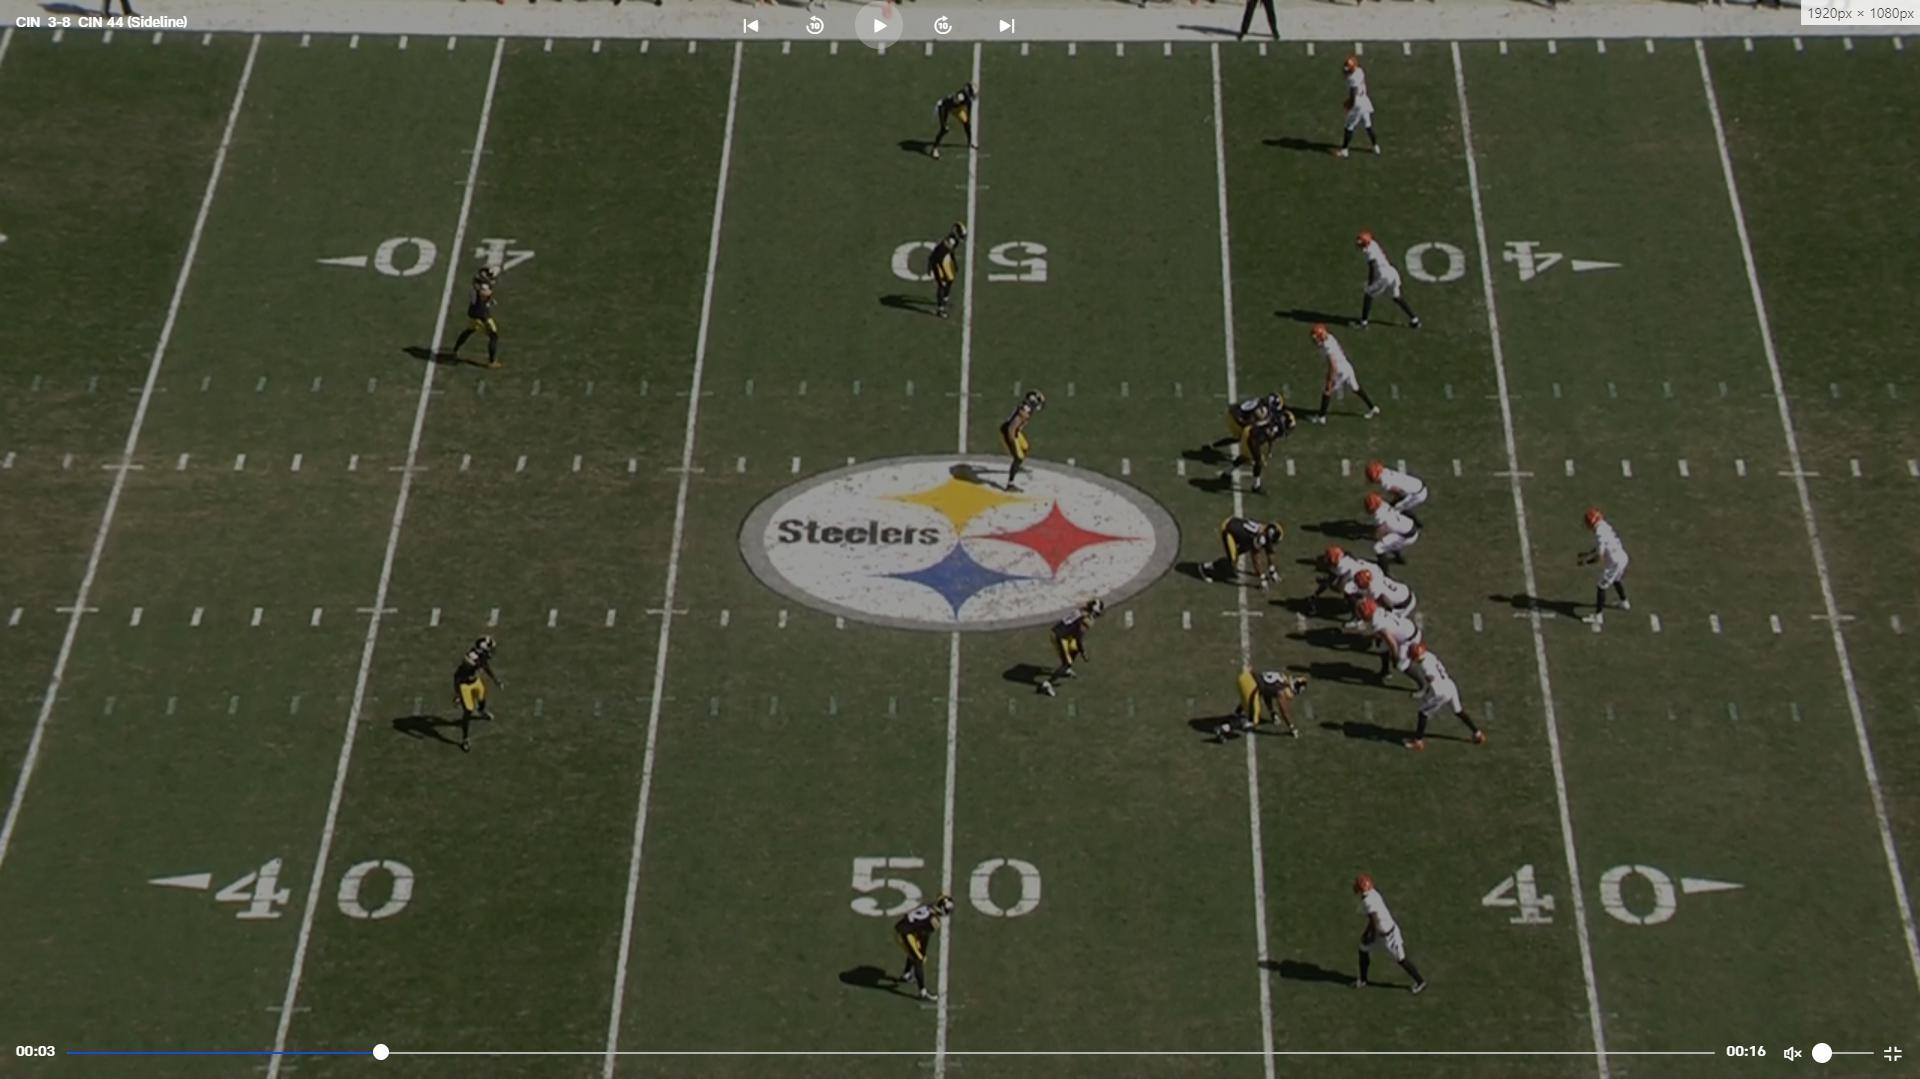defense: (878, 880, 952, 1008), (1035, 586, 1108, 706), (439, 256, 509, 377), (1212, 666, 1316, 747), (447, 632, 508, 760), (1213, 409, 1296, 496), (1200, 521, 1288, 595), (1199, 390, 1292, 459), (1000, 385, 1054, 496), (916, 218, 967, 323), (923, 82, 985, 166)
oline: (1319, 543, 1389, 632), (1365, 603, 1431, 683), (1364, 456, 1428, 528), (1364, 495, 1420, 575), (1349, 569, 1415, 637)
qb: (1573, 504, 1635, 637)
ref: (1236, 0, 1291, 44)
skill: (1349, 875, 1440, 1004), (1406, 641, 1495, 755), (1344, 230, 1425, 338), (1312, 327, 1387, 433), (1335, 54, 1391, 166)
